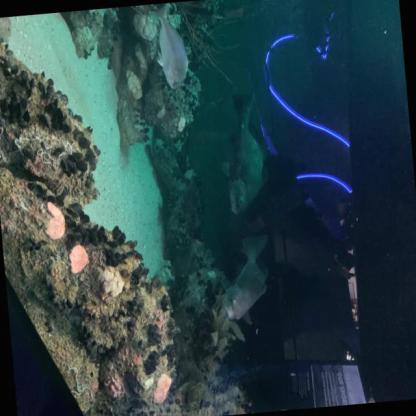fish: (210, 90, 276, 218), (214, 233, 277, 324), (150, 2, 190, 90)
